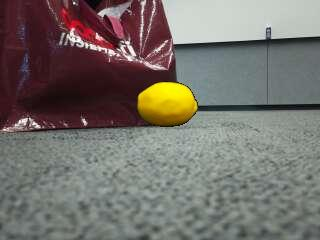lemon: (138, 83, 197, 126)
